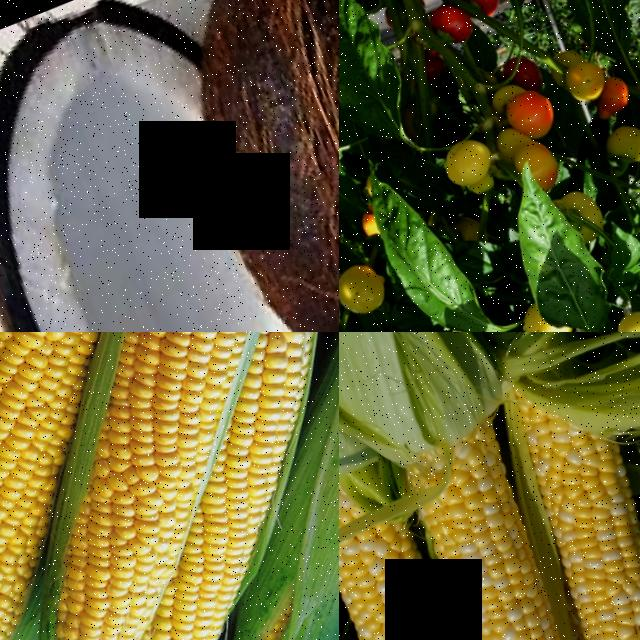coconut: (0, 0, 339, 332), (134, 0, 339, 332)
corn: (42, 332, 334, 503), (390, 429, 617, 640), (1, 451, 201, 640), (499, 418, 640, 640), (339, 501, 526, 640), (66, 529, 281, 640), (0, 332, 160, 468), (0, 445, 92, 635)
